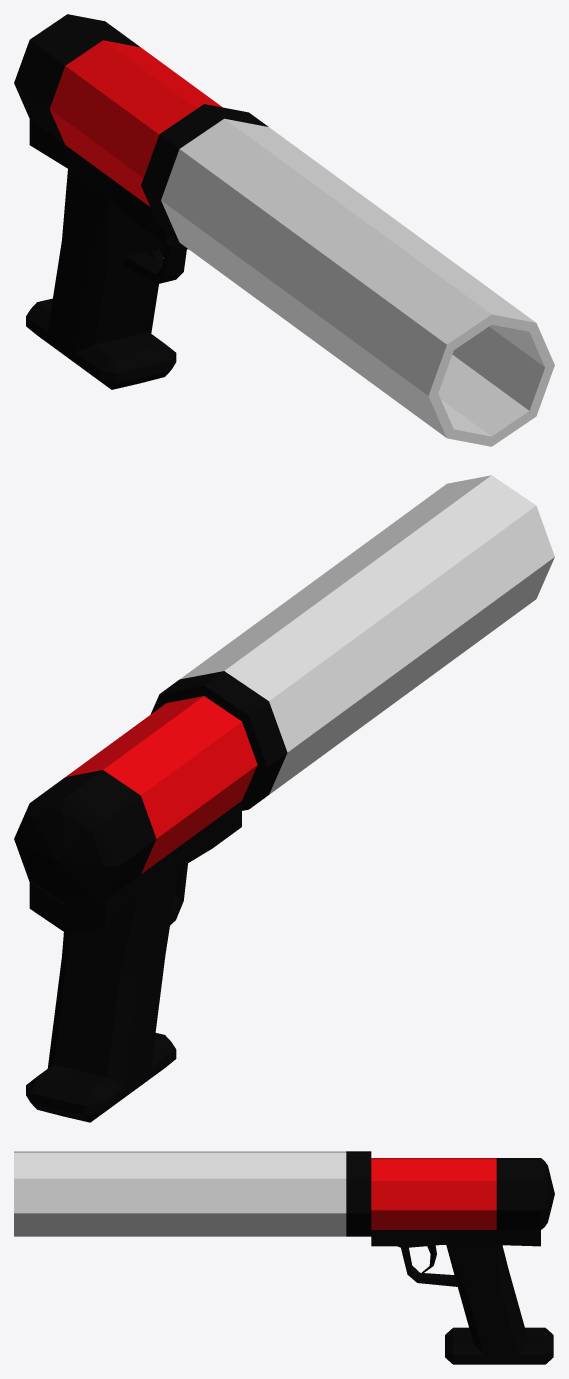
File: Elec_weird gun thingy.fbx
3 views of the same model, one above another, from view 1: azimuth 30°, elevation 25°; view 2: azimuth 150°, elevation 25°; view 3: azimuth 270°, elevation 25° (orthographic). The views are drawn at different scales.
Visible parts, largest first — view 1: Cylinder; view 2: Cylinder; view 3: Cylinder.
Boxes of the visible parts, box(x1,y1,x2,y2) form: Cylinder: box(14, 14, 554, 446); Cylinder: box(14, 475, 554, 1122); Cylinder: box(14, 1151, 554, 1364).
Size of the model in its own units: 74.55 by 185 by 444.
